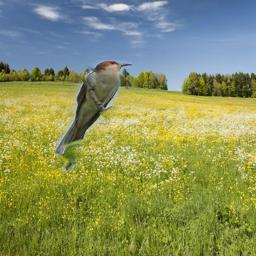Cuckoo: (55, 60, 132, 171)
